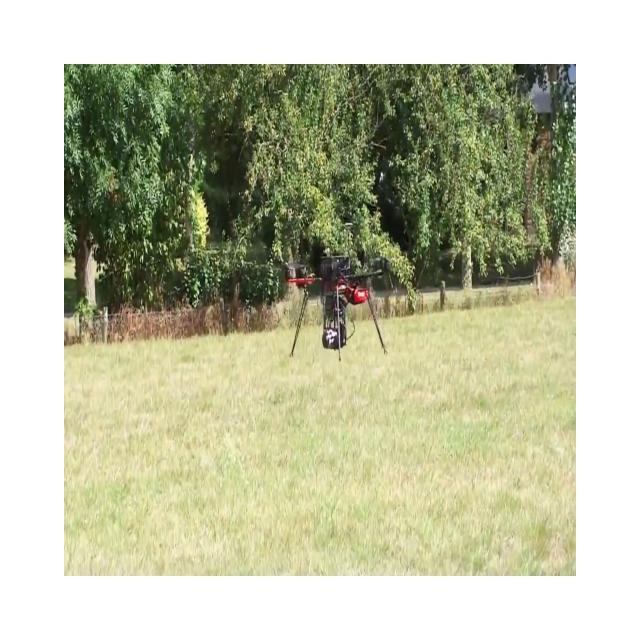drone: (283, 222, 396, 361)
